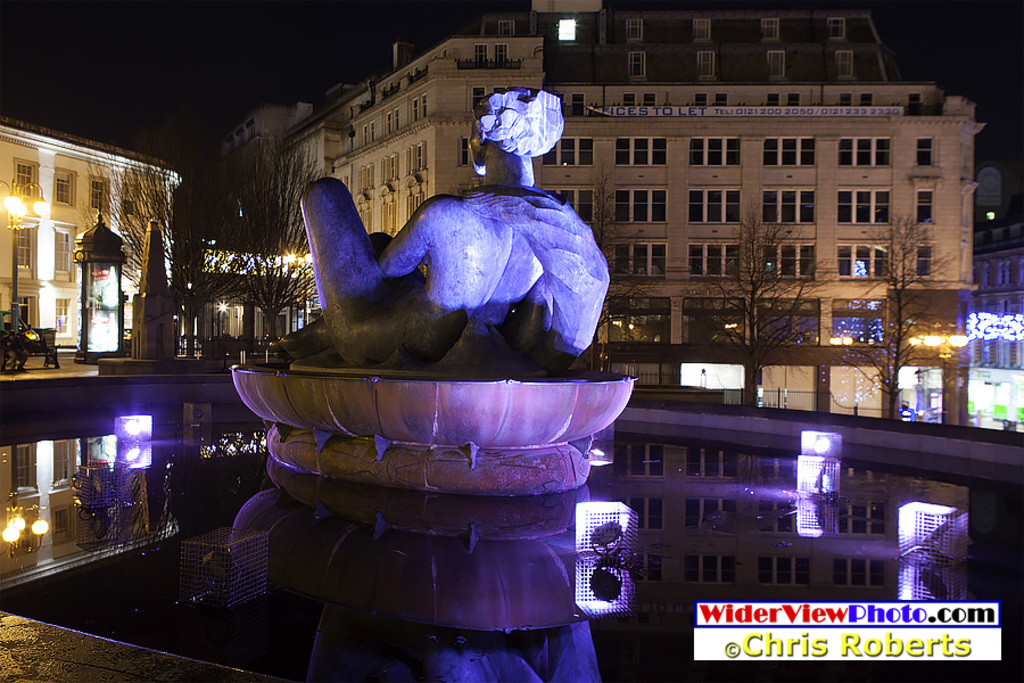Tree: (665, 188, 840, 408), (75, 152, 227, 354), (204, 135, 325, 356), (835, 211, 953, 424)
